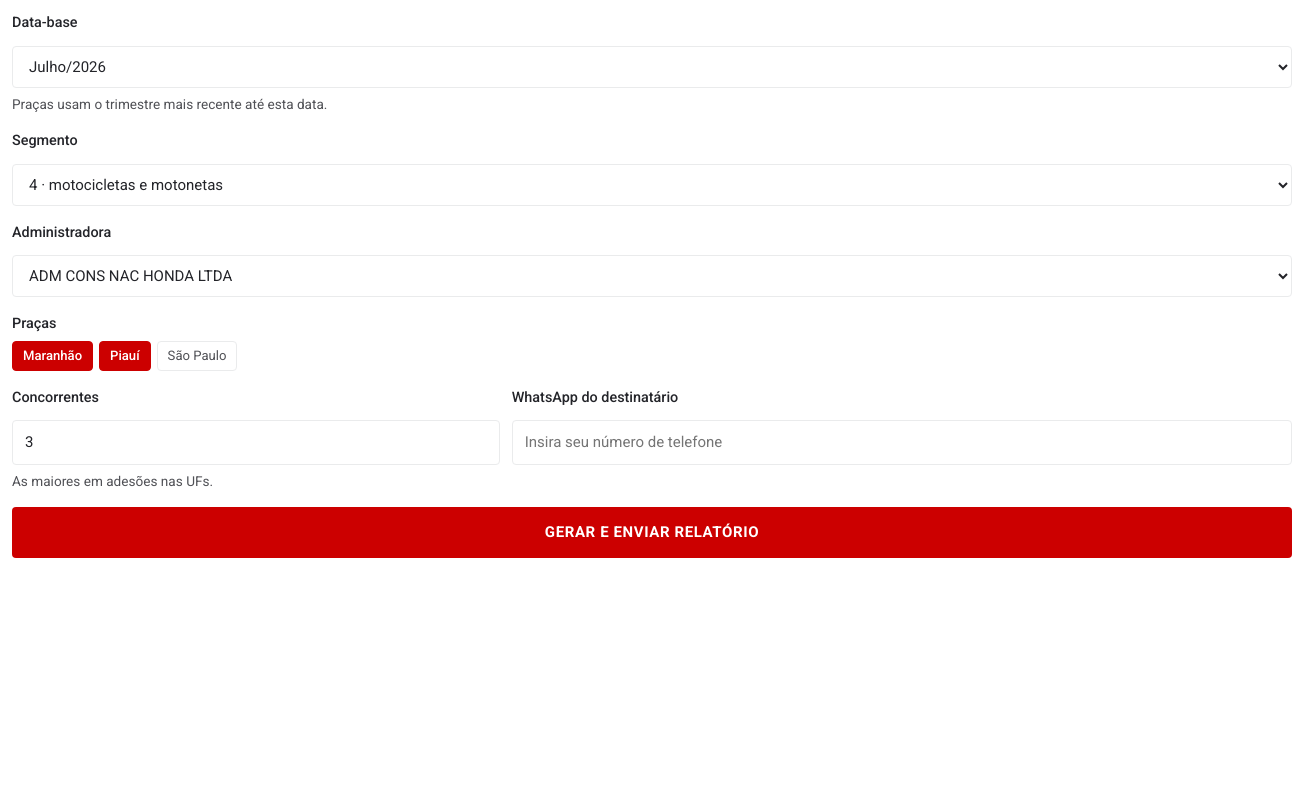
Test: painel de consulta › sem número padrão no servidor, pede o WhatsApp antes de enviar
The width and height of the screenshot is (1304, 812).
Click the button "Gerar e enviar relatório".
click(652, 532)  # box x1=12 y1=507 x2=1292 y2=558
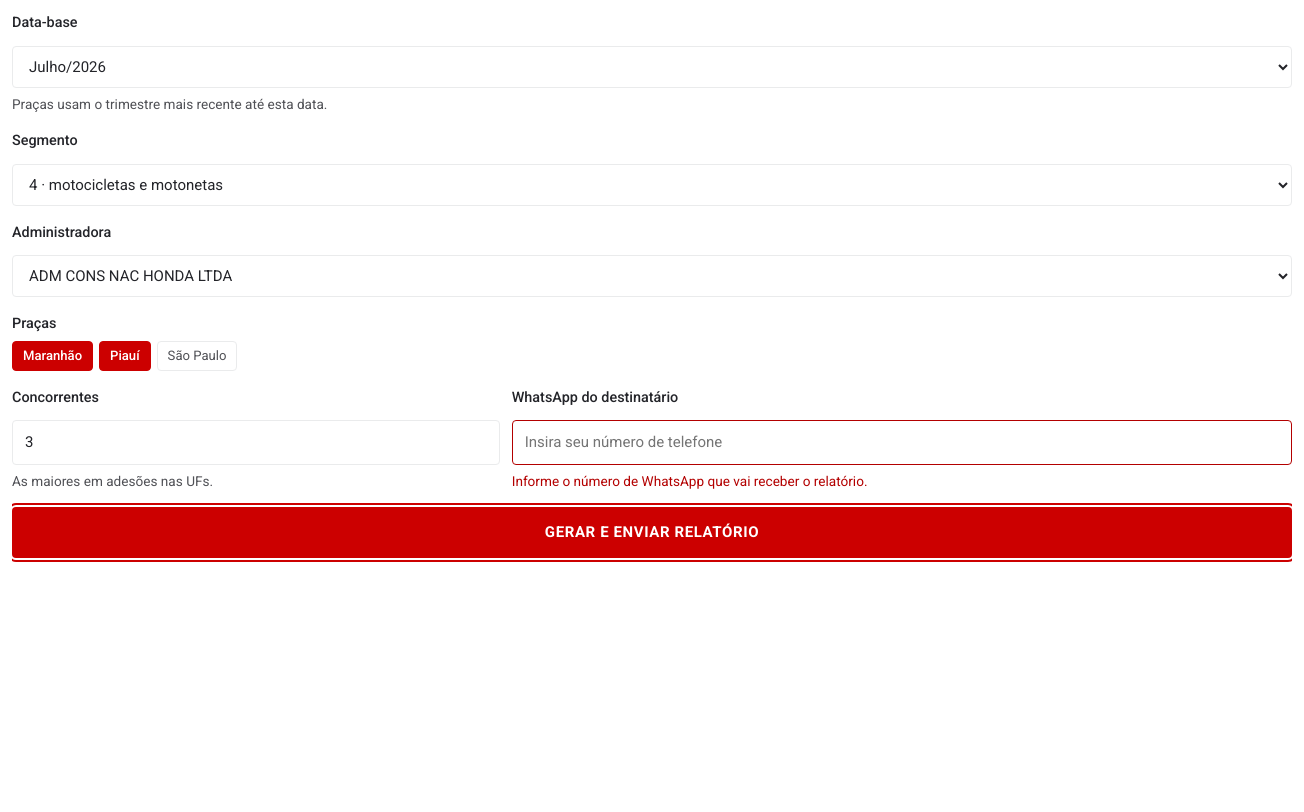
Check: the text "Informe o número de WhatsApp que vai receber o relatório." is shown, box x1=512 y1=473 x2=868 y2=489
